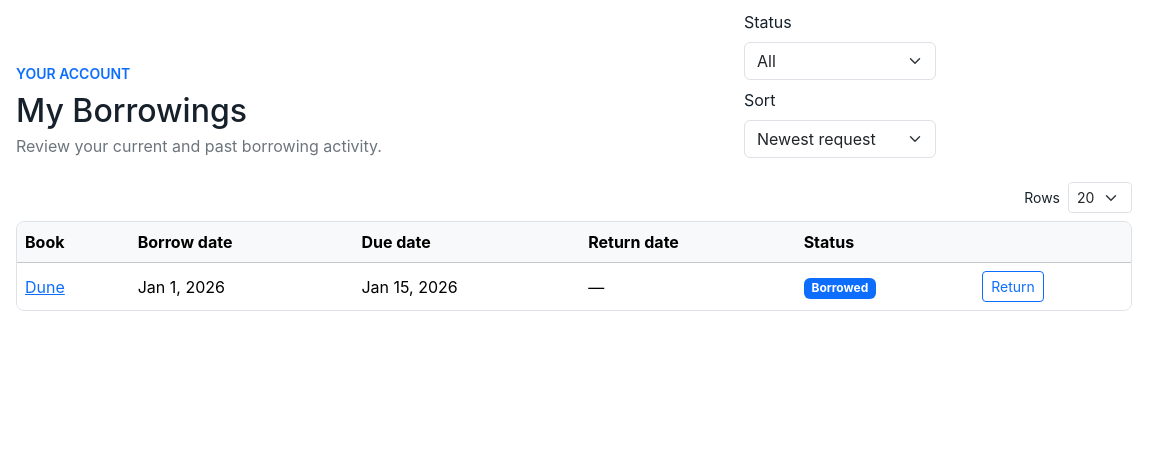
Test: MyBorrowingsComponent › shows the backend conflict when a borrowing was already returned
The width and height of the screenshot is (1149, 473).
Click the button with aria-label "Return Dune".
click(1013, 286)  # box top-left (982, 271), bottom-right (1044, 302)
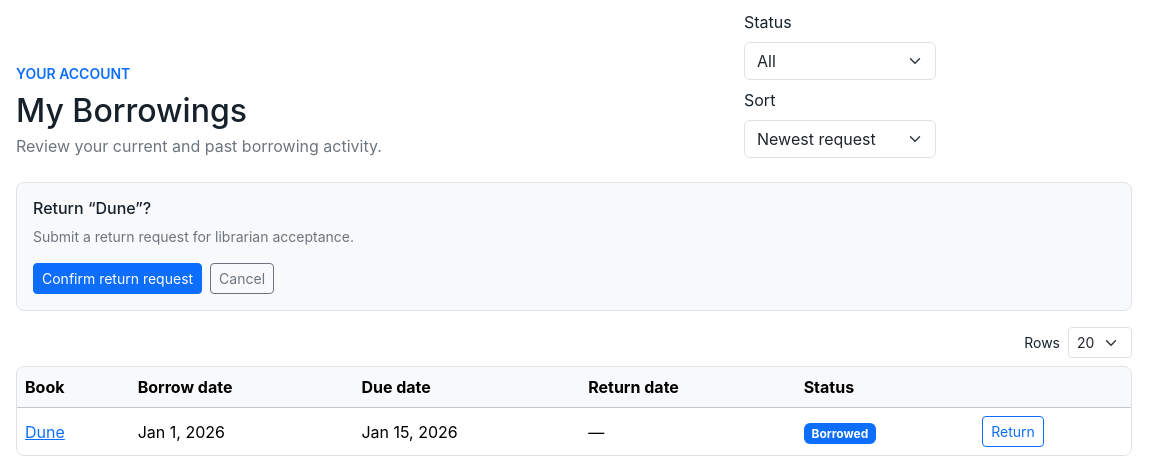
Expected: the button "Confirm return request" is shown
Click the button "Confirm return request".
click(118, 279)  # box top-left (33, 263), bottom-right (202, 294)
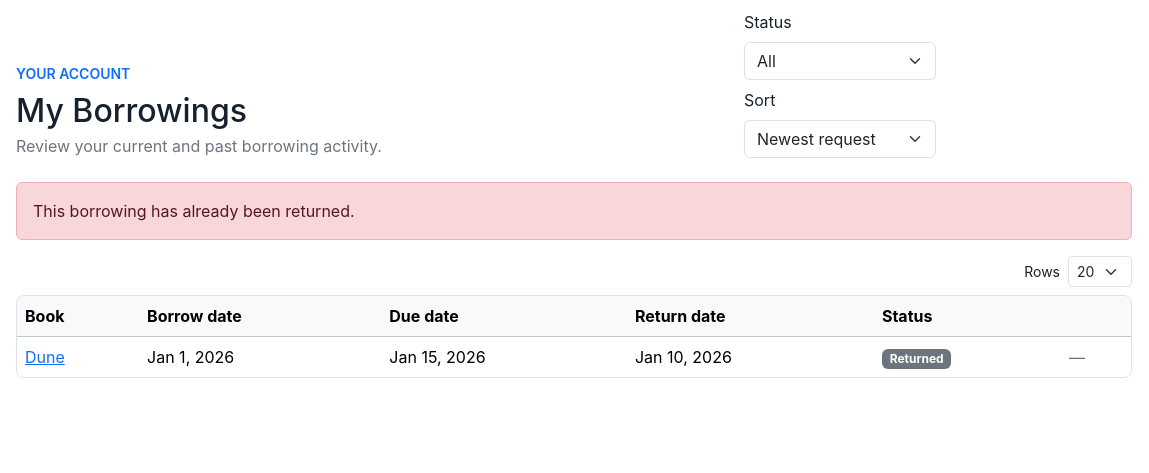
Expected: the text "This borrowing has already been returned." is shown, top-left (16, 182), bottom-right (1132, 240)
Expected: the text "returned" is shown, top-left (33, 201), bottom-right (355, 221)
